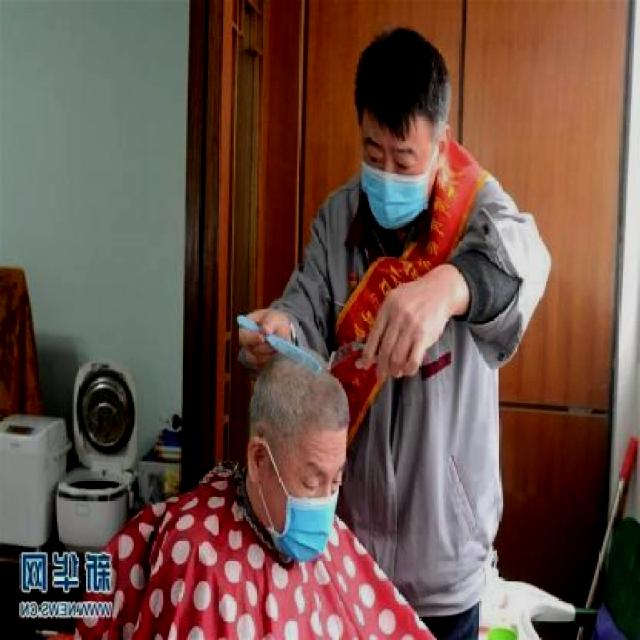face_mask: (276, 443, 344, 574), (362, 112, 431, 237)
hand_noglove: (360, 282, 448, 382), (238, 308, 290, 372)
head_nohelmet: (254, 352, 363, 452), (351, 30, 442, 138)
person: (300, 32, 580, 617), (82, 332, 430, 640)
